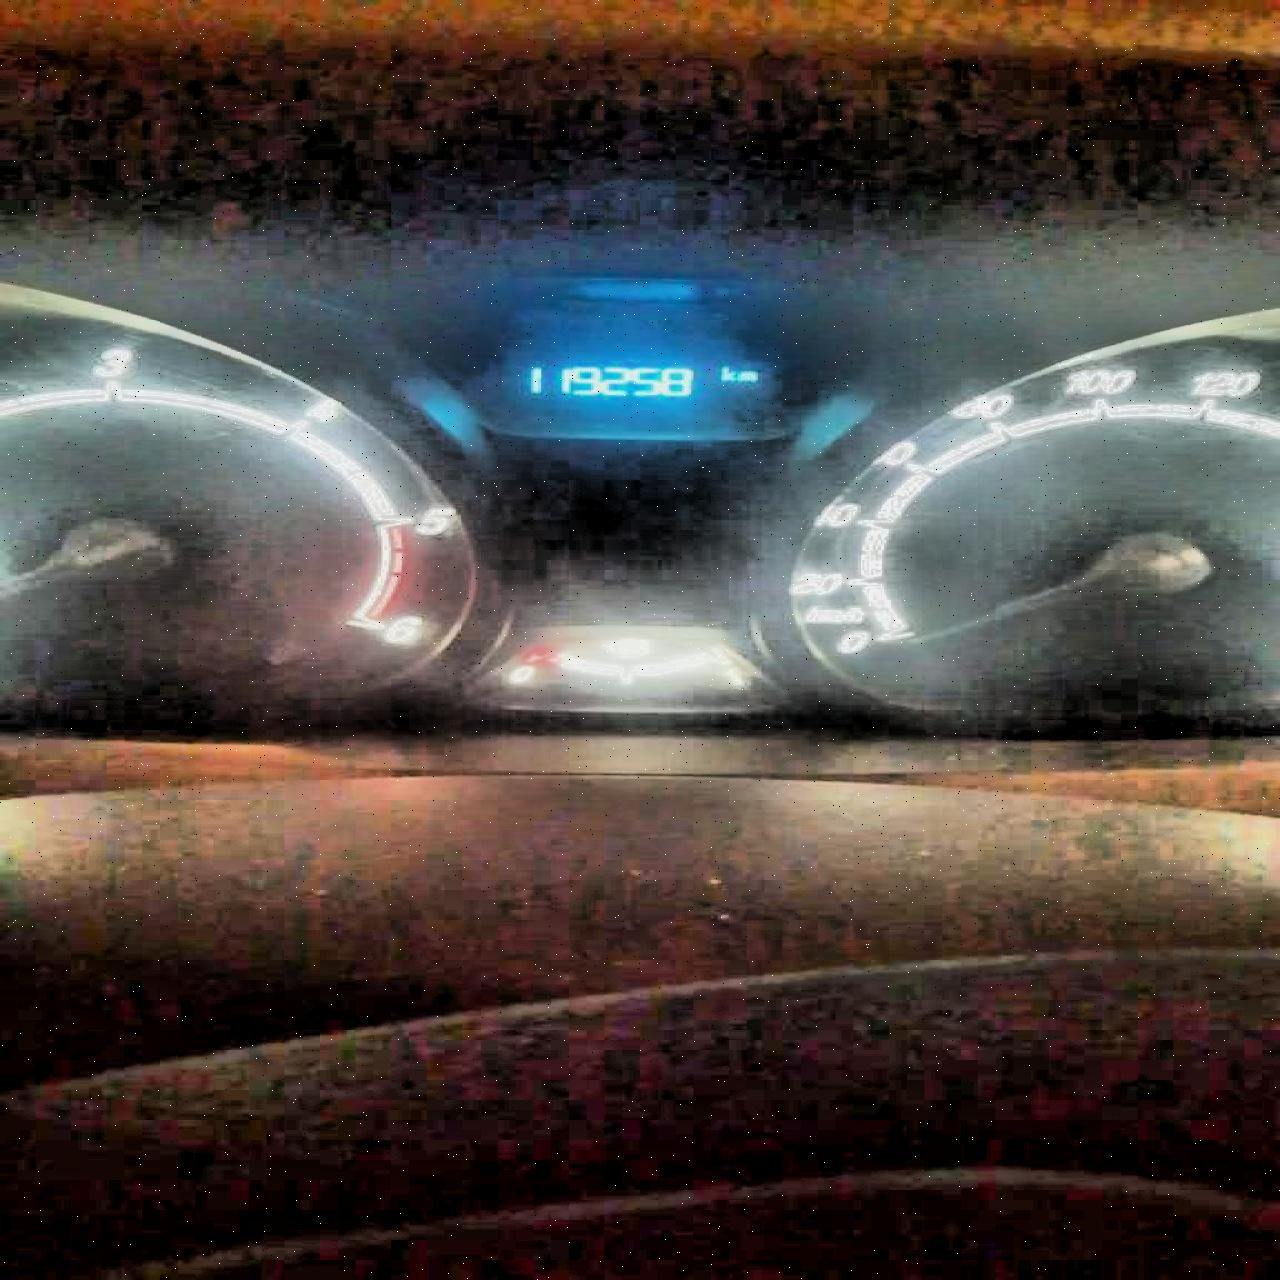1: (516, 365, 545, 394), (551, 365, 571, 395)
2: (598, 365, 629, 396)
5: (629, 365, 658, 396)
8: (660, 366, 692, 396)
9: (571, 365, 598, 395)
X: (715, 365, 734, 381), (735, 369, 757, 381)
odometer: (451, 331, 816, 444)
